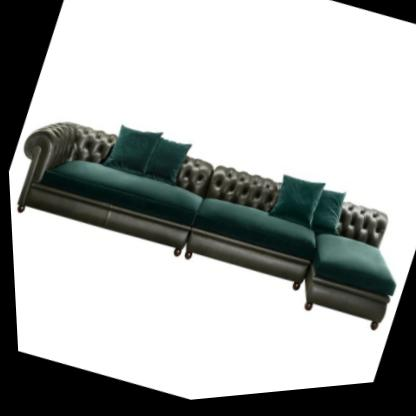Sofa: (5, 82, 416, 363)
